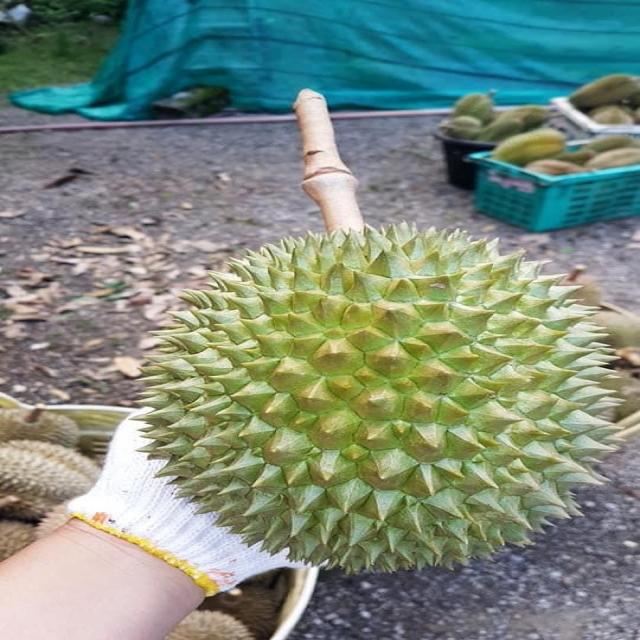immature: (151, 221, 622, 582)
